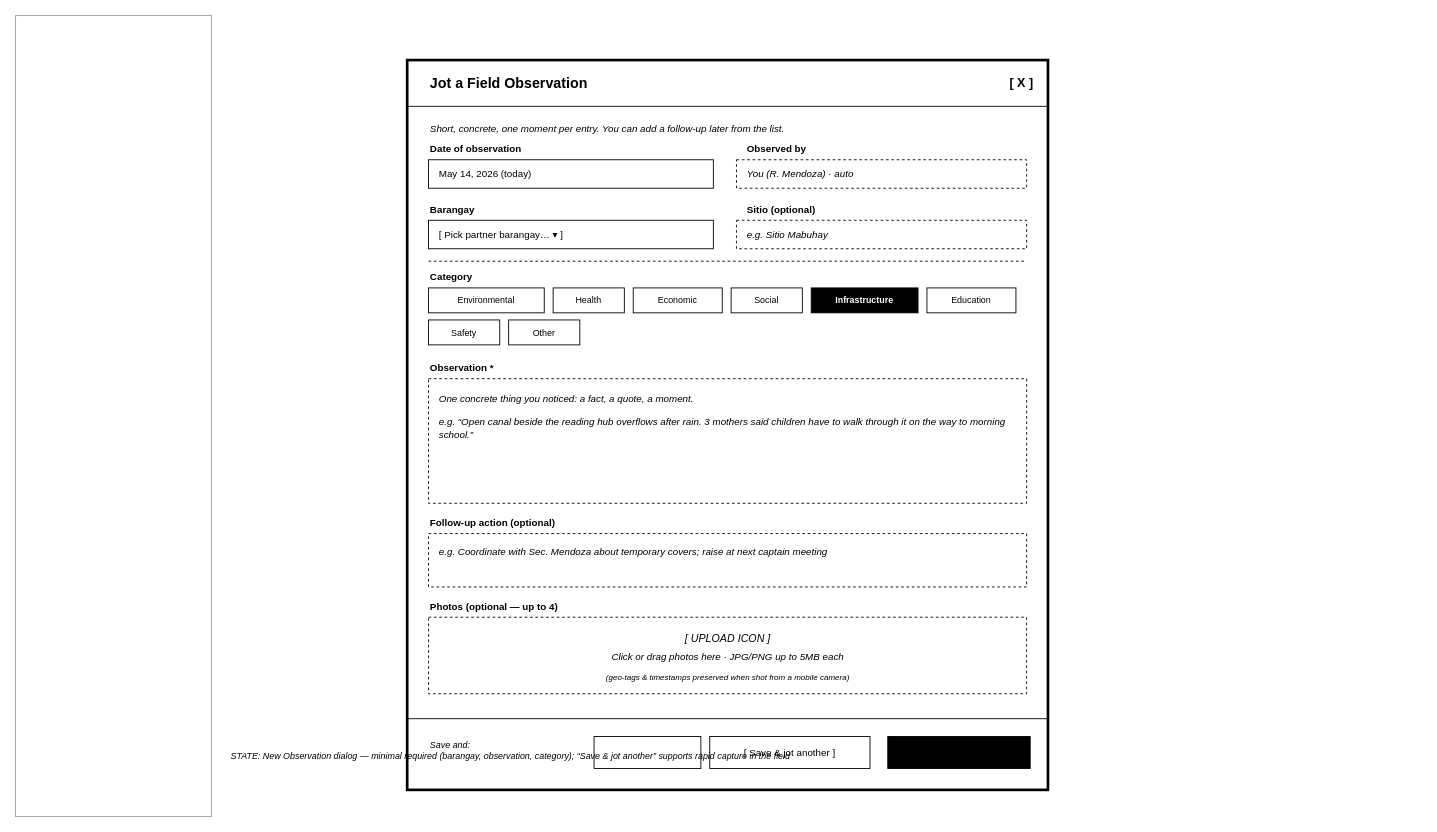
The diagram is 1437 pixels wide and 832 high, and some of its shapes have lost their labels. Each missing label, with the centre of its shape:
[ CANCEL ]: the point at 647,752
[ SAVE ]: the point at 958,752
AGAPE: the point at 113,416
